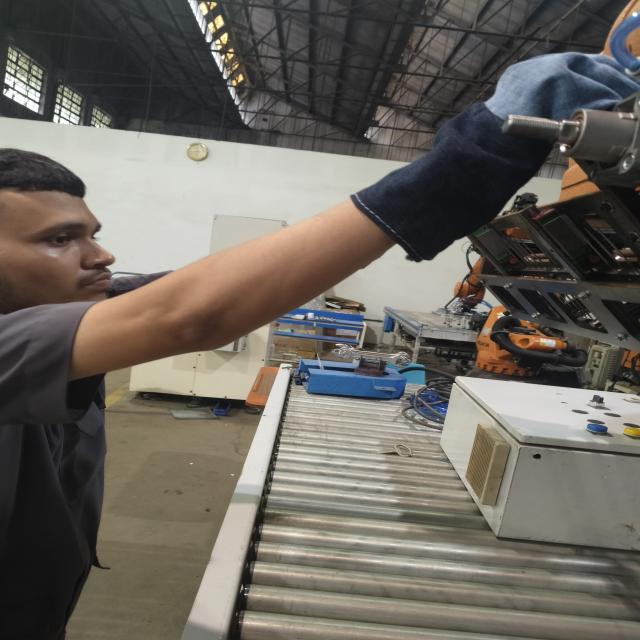Gloves-Detection: (349, 47, 619, 267)
